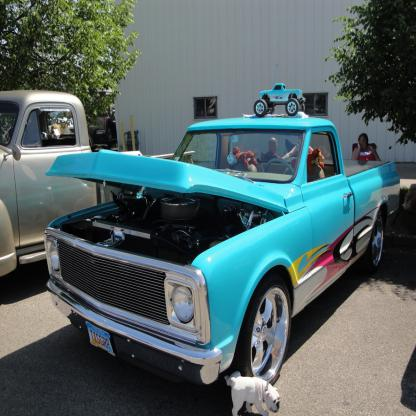Car: (45, 113, 400, 393), (0, 90, 194, 282), (253, 84, 305, 116)
Truck: (0, 98, 105, 286)
